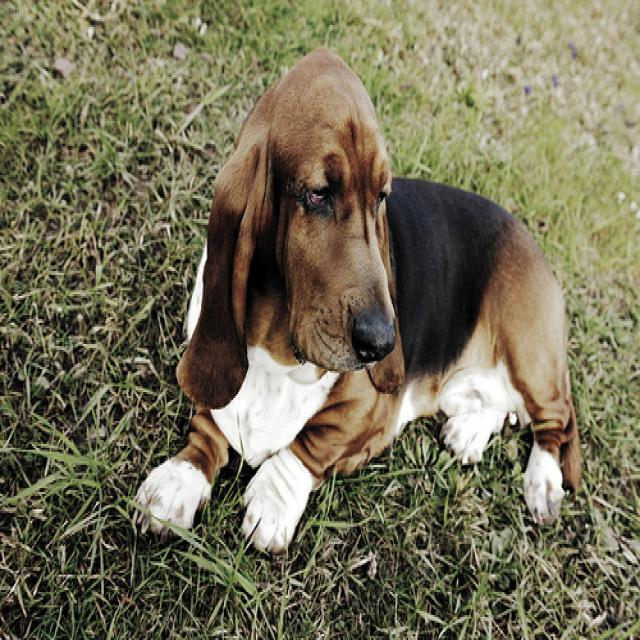dog-basset_hound: (123, 33, 590, 559)
